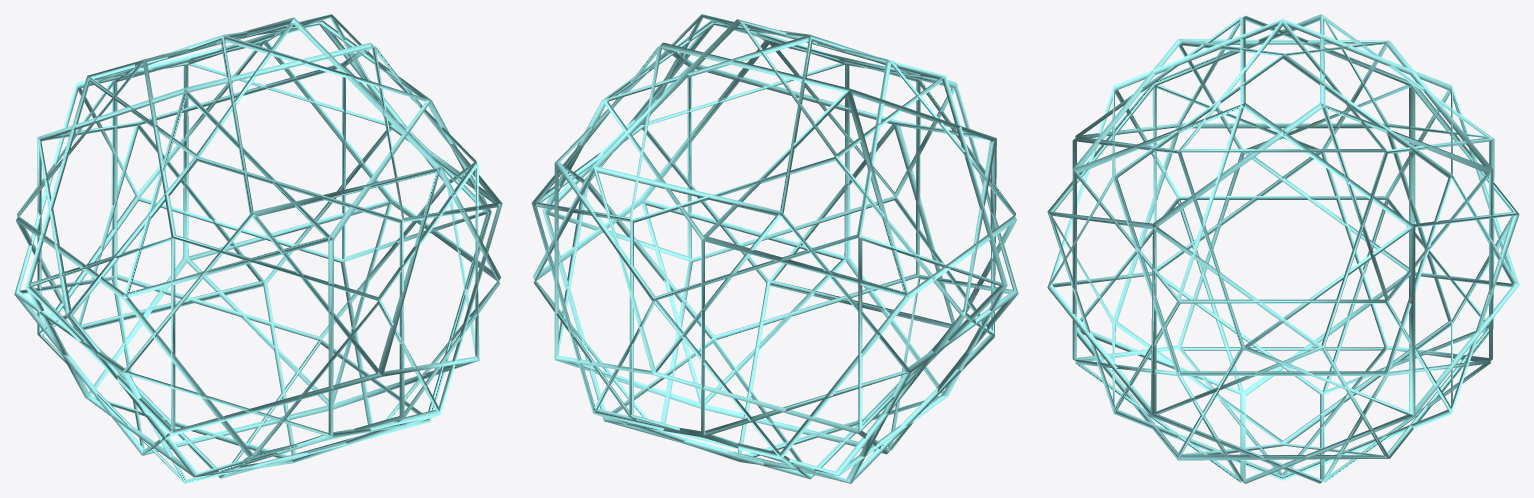
The model's file is GreatIcosicosidodecahedron1.glb.
3 views of the same model, side by side, from view 1: azimuth 30°, elevation 25°; view 2: azimuth 150°, elevation 25°; view 3: azimuth 270°, elevation 25° (orthographic). The views are drawn at different scales.
Parts seen in each view (by area): view 1: GreatIcosicosidodecahedron; view 2: GreatIcosicosidodecahedron; view 3: GreatIcosicosidodecahedron.
Boxes of the visible parts, box(x1,y1,x2,y2) form: GreatIcosicosidodecahedron: box(14, 14, 502, 483); GreatIcosicosidodecahedron: box(531, 14, 1018, 483); GreatIcosicosidodecahedron: box(1047, 14, 1519, 483).
Bounding box in the file's own units: 2.27 × 2.27 × 2.26.
